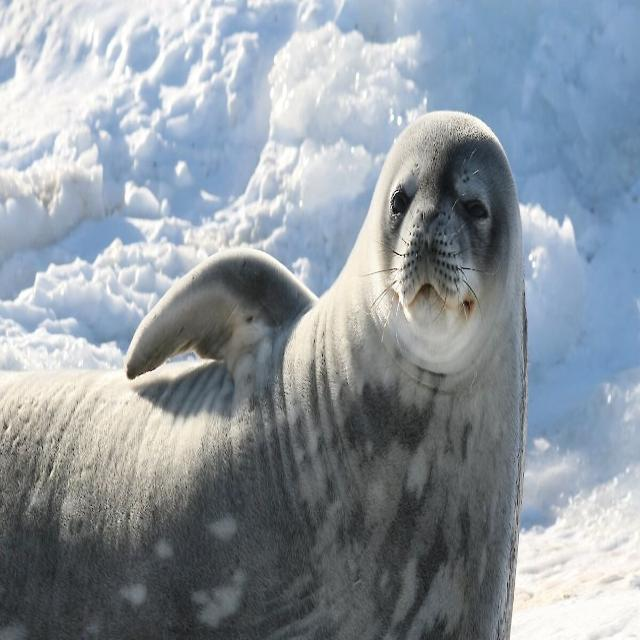seal: (0, 112, 527, 639)
